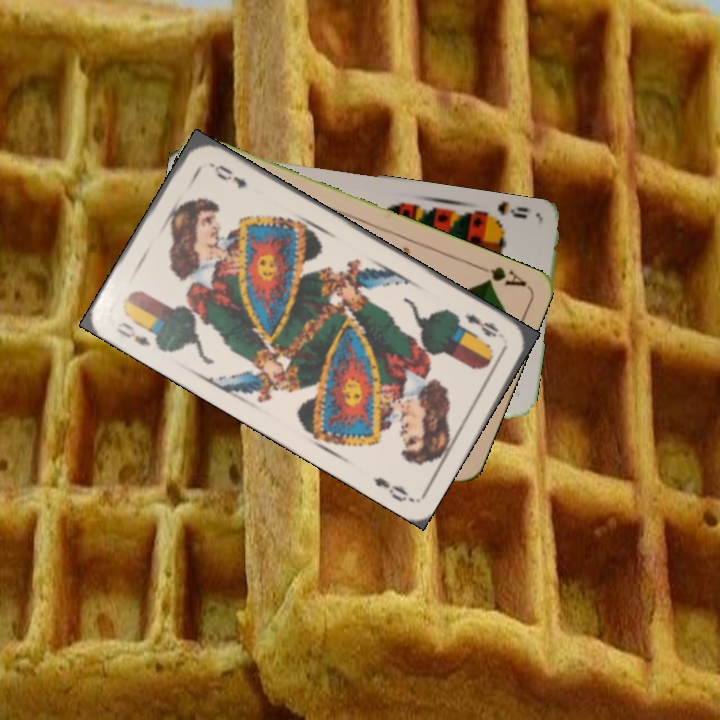EO: (112, 318, 153, 349), (460, 310, 502, 340)
GA: (472, 260, 529, 290)
S9: (493, 199, 532, 221)
